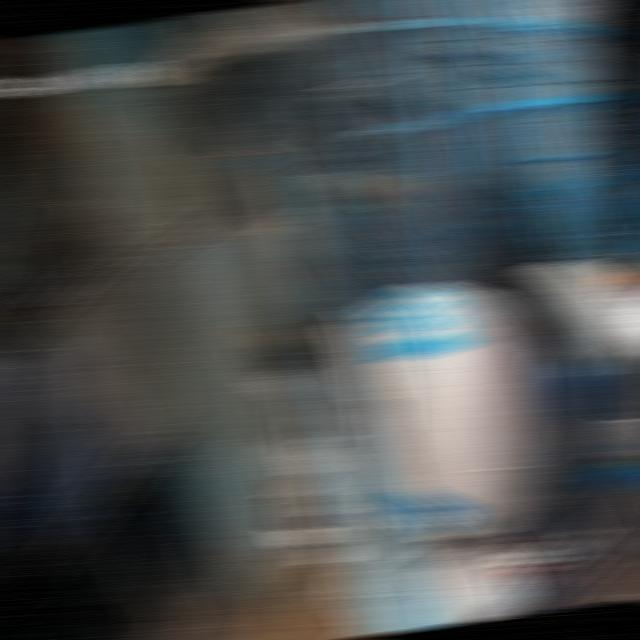cement_mixer_truck: (241, 248, 640, 639)
swing_chute: (208, 126, 355, 356)
